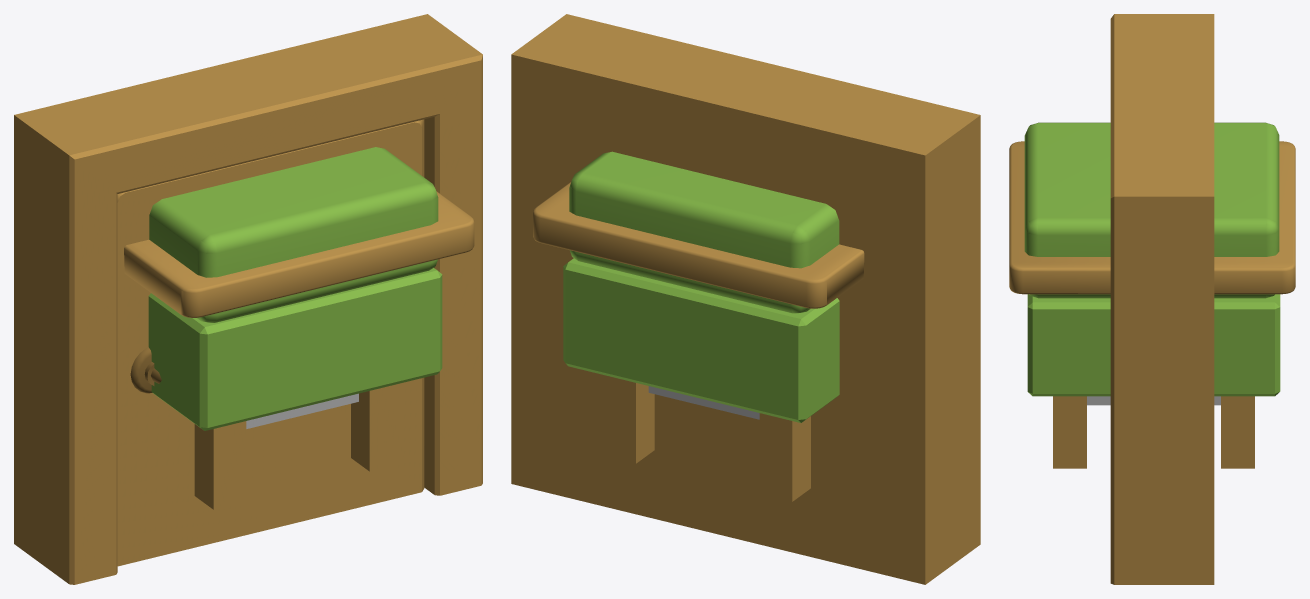
The model's file is FurnitureSamples2.fbx.
The picture shows the model from 3 angles, left to right: view 1: azimuth 30°, elevation 25°; view 2: azimuth 150°, elevation 25°; view 3: azimuth 270°, elevation 25°; orthographic projection. The views are drawn at different scales.
Visible parts, largest first — view 1: Door, Couch, Desk, GenericCube; view 2: Door, Couch, Desk, GenericCube; view 3: Door, Couch, Desk.
Part boxes in pixels (<box>): Door: <box>14,14,482,584</box>; Couch: <box>148,147,442,509</box>; Desk: <box>124,191,474,317</box>; GenericCube: <box>246,393,358,428</box>; Door: <box>511,14,980,584</box>; Couch: <box>563,151,839,501</box>; Desk: <box>533,182,864,308</box>; GenericCube: <box>648,386,759,419</box>; Door: <box>1110,14,1214,584</box>; Couch: <box>1024,122,1280,468</box>; Desk: <box>1009,141,1295,294</box>.
Bounding box in the file's own units: 54.8 × 54.3 × 36.27.
